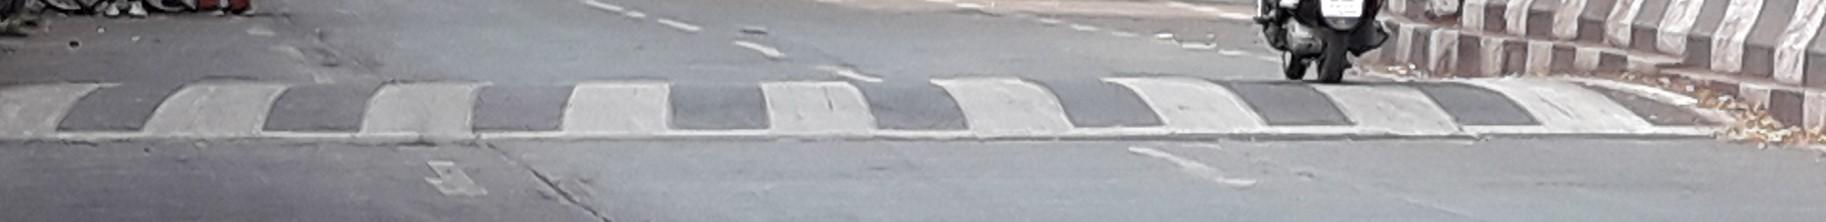speed-bump: (1, 71, 1738, 153)
